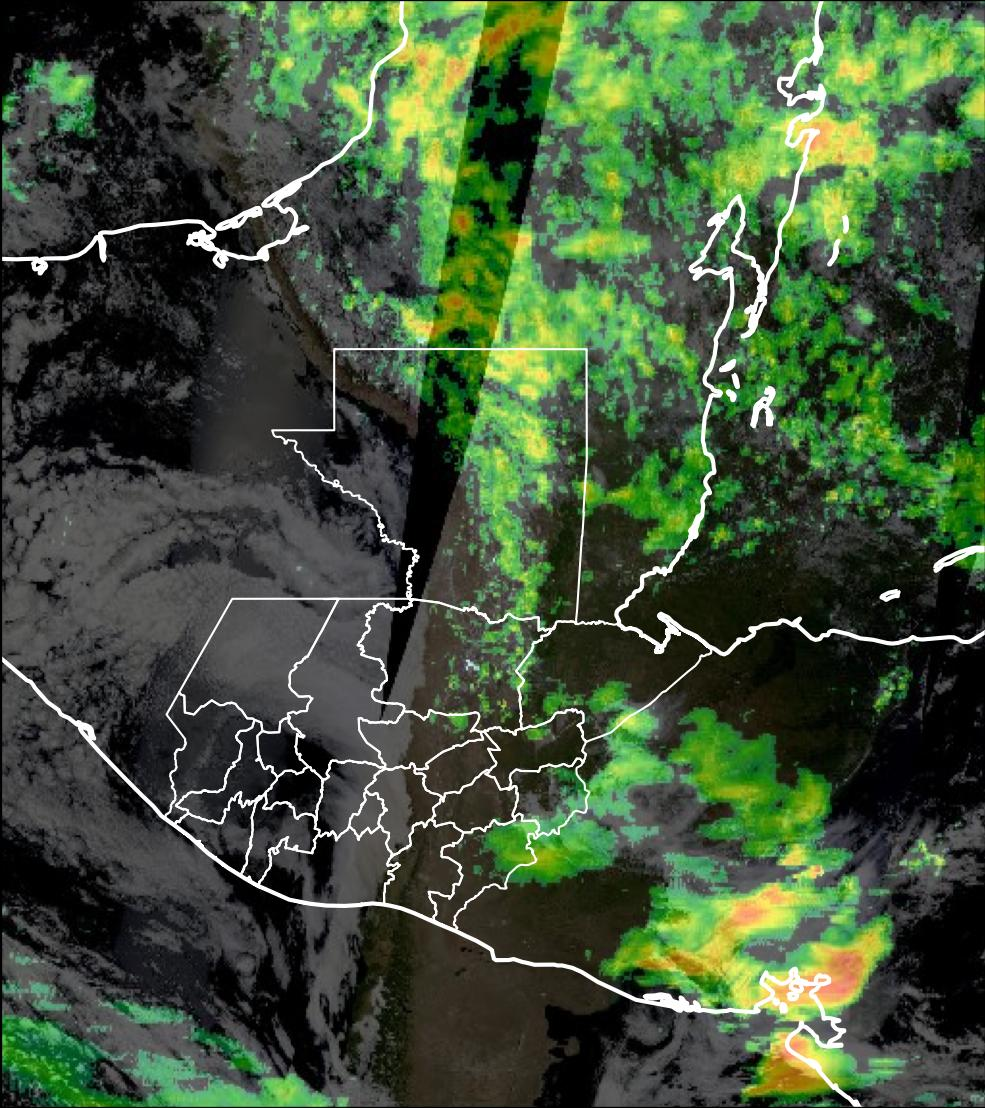precipitacion: (766, 934, 877, 1010)
